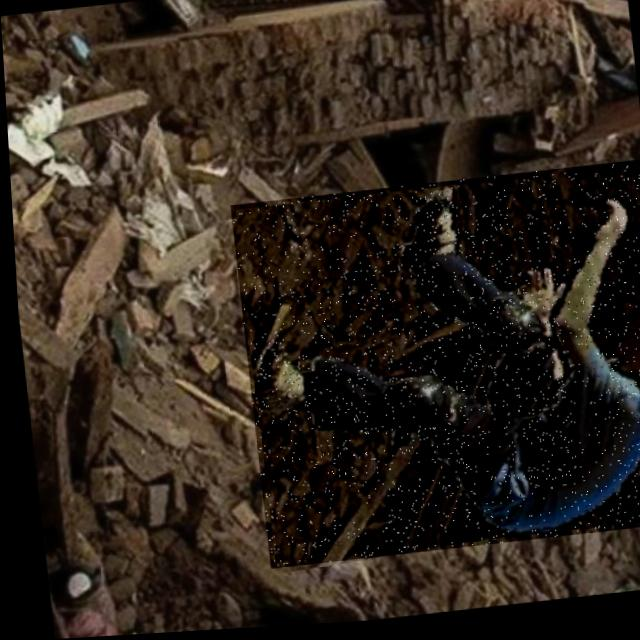Person in Rubble: (225, 166, 640, 572)
